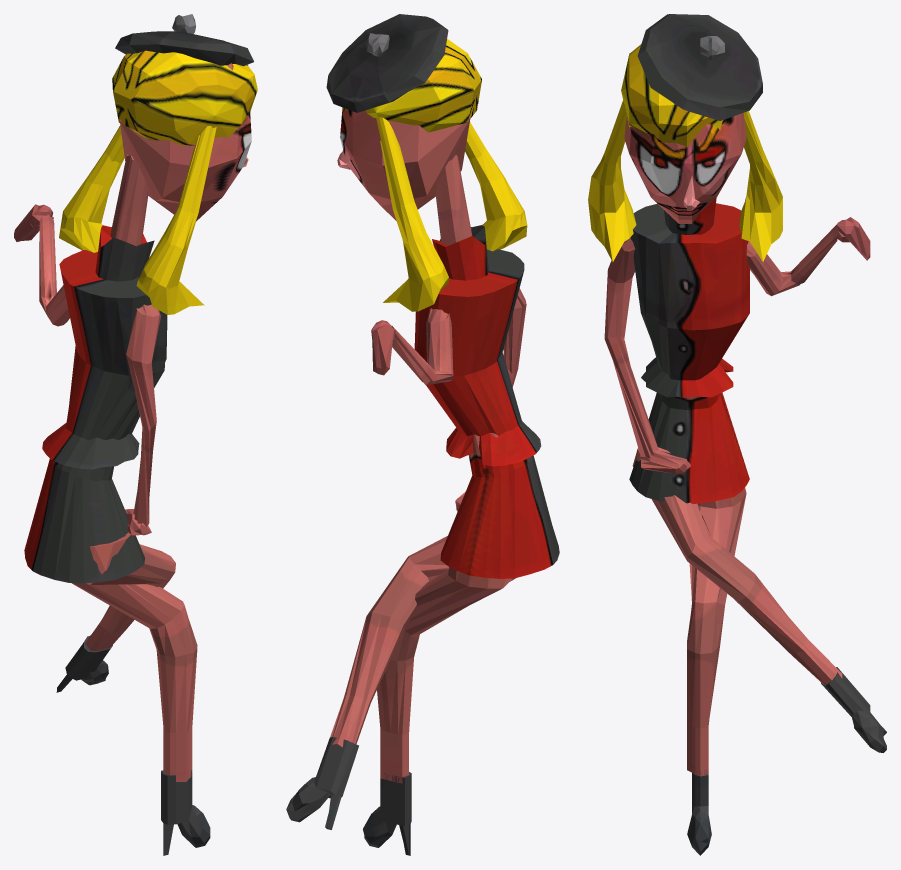
Rendered from RogaCard.glb.
The picture shows the model from 3 angles, left to right: view 1: azimuth 30°, elevation 25°; view 2: azimuth 150°, elevation 25°; view 3: azimuth 270°, elevation 25°; orthographic projection. The views are drawn at different scales.
Visible parts, largest first — view 1: RogaCard; view 2: RogaCard; view 3: RogaCard.
Boxes of the visible parts, left/top/right/bottom form: RogaCard: left=14, top=14, right=257, bottom=855; RogaCard: left=286, top=14, right=559, bottom=855; RogaCard: left=588, top=14, right=886, bottom=855.
Size of the model in its own units: 71.75 by 264 by 87.86.
1 material, 1 textured.
